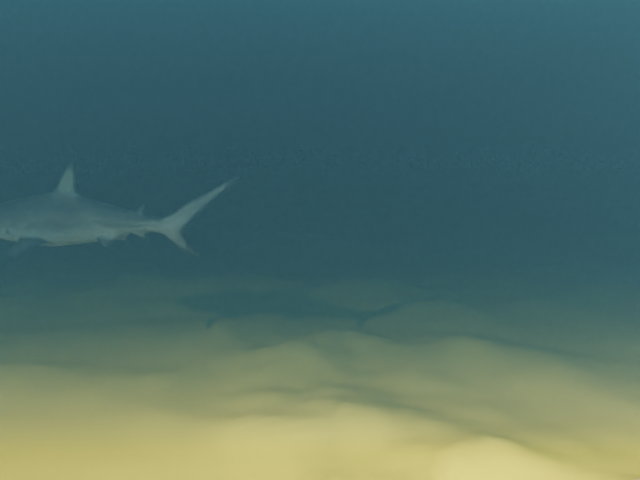Carribean Shark.001: (0, 162, 240, 263)
